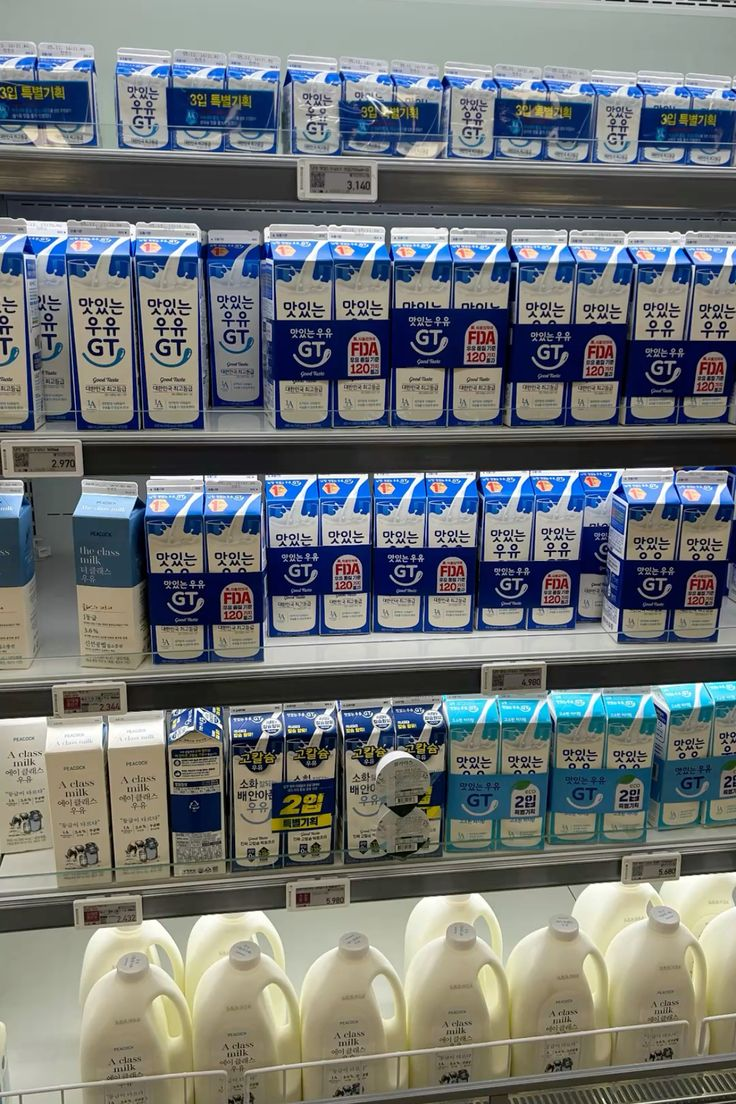milk: (301, 934, 406, 1099), (405, 922, 507, 1086), (260, 224, 341, 427), (81, 953, 191, 1080), (563, 231, 632, 423), (448, 228, 510, 424), (45, 716, 112, 885), (84, 1082, 190, 1103)
